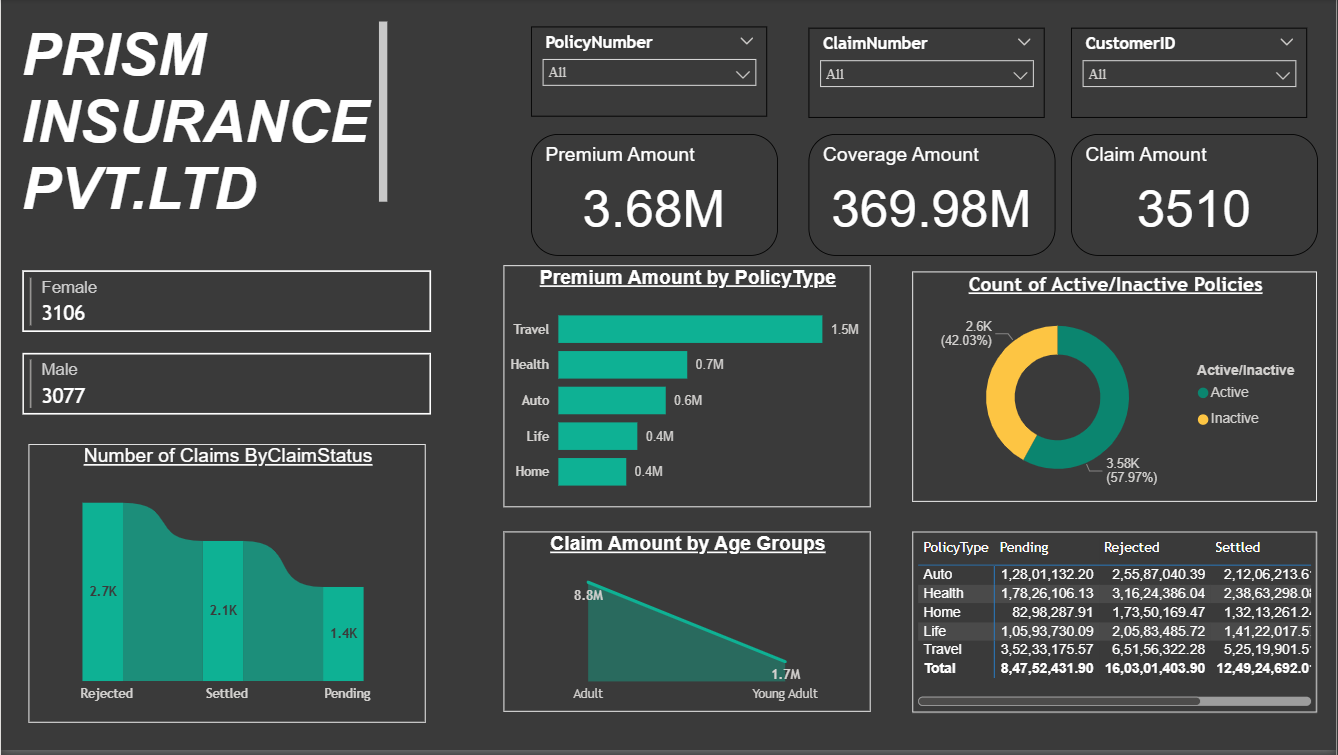

This screenshot's page, from the dashboard's own definition file:
{"tool":"powerbi","page":{"name":"Page 1","canvas":[1280,720],"ordinal":0},"visuals":[{"type":"slicer","fields":{"Values":["Insurance.PolicyNumber"]},"box":[508.2,26.4,226.5,86.3],"z":0},{"type":"slicer","fields":{"Values":["Insurance.ClaimNumber"]},"box":[774.8,27.4,226.5,86.6],"z":1000},{"type":"slicer","fields":{"Values":["Insurance.CustomerID"]},"box":[1025.8,27.4,226.5,86.6],"z":2000},{"type":"textbox","box":[14.4,17.3,360.7,191.9],"z":3000},{"type":"card","title":"Premium Amount","fields":{"Values":["Insurance.Total Premium Amount"]},"box":[507.9,129.8,236.6,116.9],"z":4000},{"type":"card","title":"Coverage Amount","fields":{"Values":["Sum(Insurance.CoverageAmount)"]},"box":[774.8,129.8,236.6,116.9],"z":5000},{"type":"card","title":"Claim Amount","fields":{"Values":["Insurance.Number of Claims"]},"box":[1025.8,129.8,236.6,116.9],"z":6000},{"type":"multiRowCard","fields":{"Values":["Insurance.Gender","CountNonNull(Insurance.Gender)"]},"box":[15.6,255.3,401.5,171.4],"z":7000},{"type":"ribbonChart","title":" Number of Claims ByClaimStatus","fields":{"Category":["Insurance.ClaimStatus"],"Y":["CountNonNull(Insurance.ClaimStatus)"]},"box":[26.4,426.7,381.1,267.3],"z":8000},{"type":"barChart","title":"Premium Amount by PolicyType","fields":{"Category":["Insurance.PolicyType"],"Y":["Sum(Insurance.PremiumAmount)"]},"box":[481.9,255.4,352,232.3],"z":9000},{"type":"lineChart","title":"Claim Amount by Age Groups","fields":{"Category":["Insurance.Age Groups"],"Y":["Sum(Insurance.ClaimAmount)"]},"box":[481.9,510.7,352,173.1],"z":10000},{"type":"donutChart","title":"Count of Active/Inactive Policies","fields":{"Category":["Insurance.Active/Inactive"],"Y":["CountNonNull(Insurance.Active/Inactive)"]},"box":[873.7,261.3,388.3,220.5],"z":11000},{"type":"pivotTable","fields":{"Values":["Sum(Insurance.CoverageAmount)"],"Rows":["Insurance.PolicyType"],"Columns":["Insurance.ClaimStatus"]},"box":[873.7,510.6,388.3,173.8],"z":12000}]}

Visuals, with their boxes in screenshot pixels (x1, y1, x2, y2), scaled from the page's 1280x720 canvas onto the 1338x755 screenshot:
slicer - Insurance.PolicyNumber: [531, 28, 768, 118]
slicer - Insurance.ClaimNumber: [810, 29, 1047, 120]
slicer - Insurance.CustomerID: [1072, 29, 1309, 120]
textbox: [15, 18, 392, 219]
"Premium Amount" card: [531, 136, 778, 259]
"Coverage Amount" card: [810, 136, 1057, 259]
"Claim Amount" card: [1072, 136, 1320, 259]
multiRowCard - Insurance.Gender x CountNonNull(Insurance.Gender): [16, 268, 436, 447]
" Number of Claims ByClaimStatus" ribbonChart: [28, 447, 426, 728]
"Premium Amount by PolicyType" barChart: [504, 268, 872, 511]
"Claim Amount by Age Groups" lineChart: [504, 536, 872, 717]
"Count of Active/Inactive Policies" donutChart: [913, 274, 1319, 505]
pivotTable - Sum(Insurance.CoverageAmount) x Insurance.PolicyType: [913, 535, 1319, 718]
